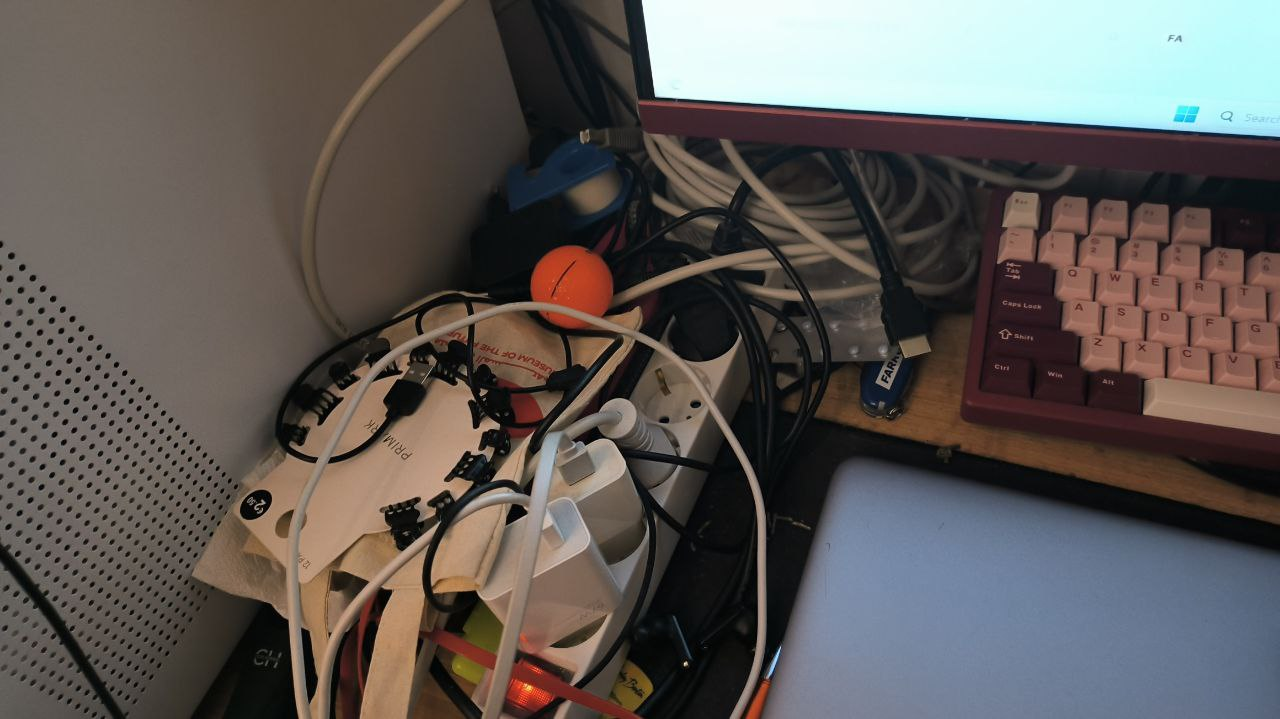orange_ball: (530, 245, 613, 329)
